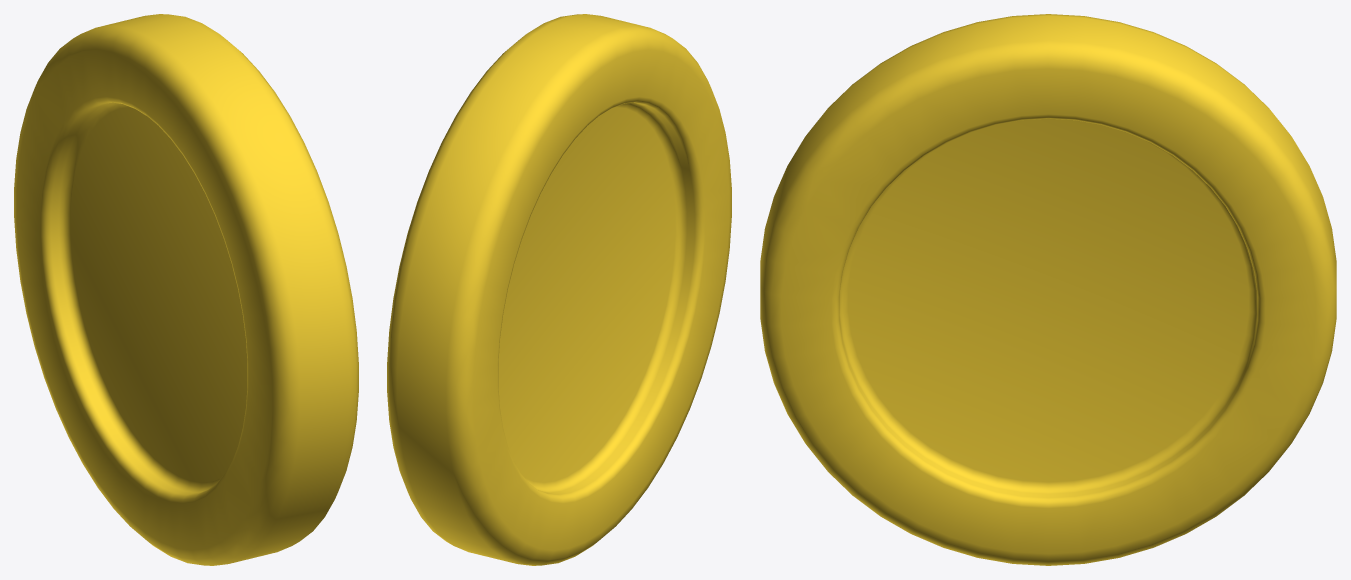
The model's file is Coin.obj.
The picture shows the model from 3 angles, left to right: view 1: azimuth 30°, elevation 25°; view 2: azimuth 150°, elevation 25°; view 3: azimuth 270°, elevation 25°; orthographic projection. The views are drawn at different scales.
Visible parts, largest first — view 1: Coin; view 2: Coin; view 3: Coin.
Part boxes in pixels (x1=…): Coin: x1=14, y1=14, x2=358, y2=565; Coin: x1=387, y1=14, x2=731, y2=565; Coin: x1=760, y1=14, x2=1336, y2=565.
Size of the model in its own units: 0.07 by 0.4 by 0.3992.
